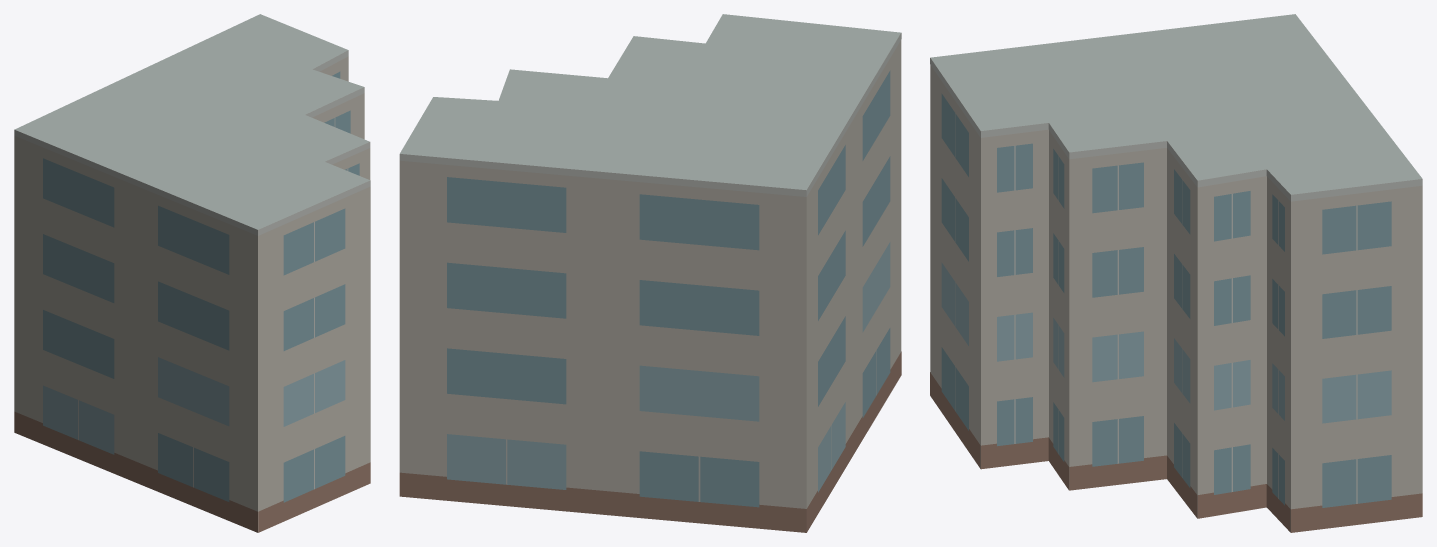
The model's file is survey-upis-32980257.glb.
3 renders of one model, left to right at view 1: azimuth 30°, elevation 25°; view 2: azimuth 150°, elevation 25°; view 3: azimuth 270°, elevation 25°, orthographic. The views are drawn at different scales.
Parts seen in each view (by area): view 1: survey-upis-32980257.tmp; view 2: survey-upis-32980257.tmp; view 3: survey-upis-32980257.tmp.
Part boxes in pixels (<box>): survey-upis-32980257.tmp: <box>14,14,370,532</box>; survey-upis-32980257.tmp: <box>399,14,901,532</box>; survey-upis-32980257.tmp: <box>930,14,1422,532</box>.
Bounding box in the file's own units: 13.95 × 12.15 × 16.05.
